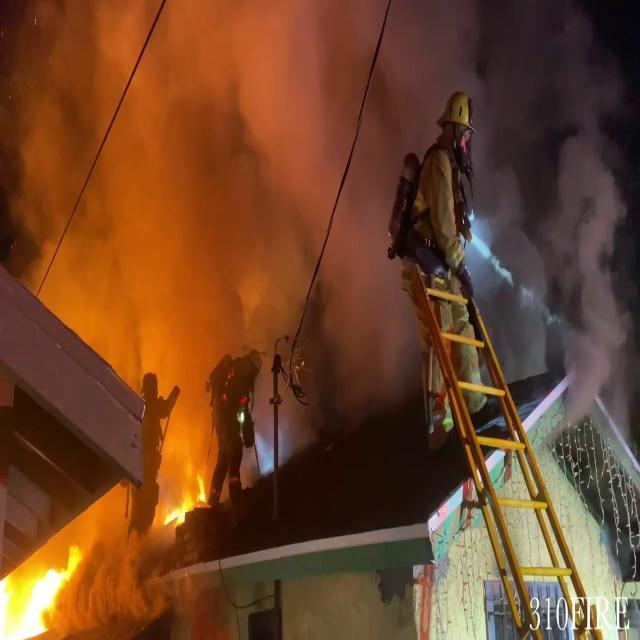Fire: (0, 538, 74, 639), (161, 463, 209, 532)
Smoke: (0, 0, 425, 422)
